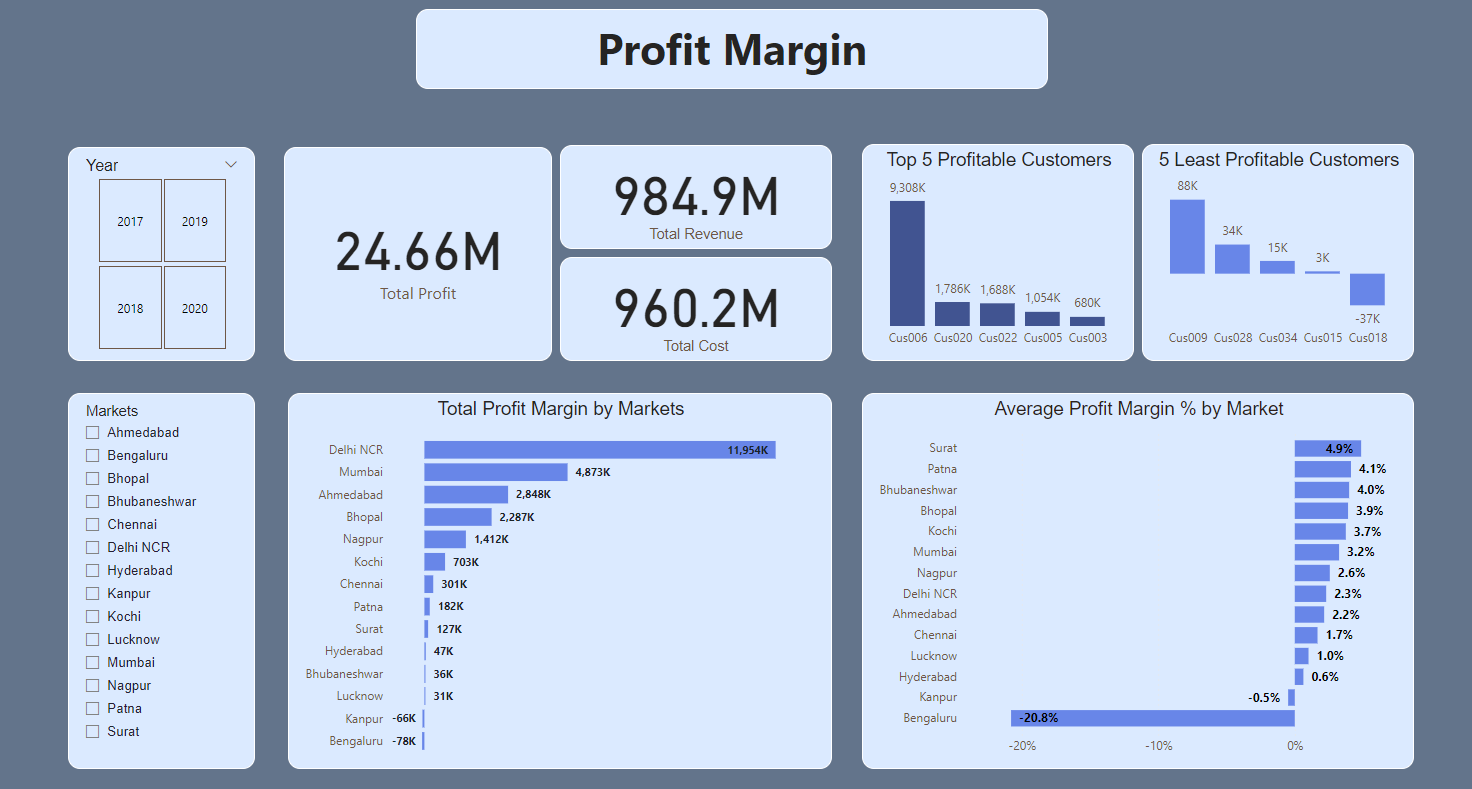

The page's visual inventory and layout, read from the dashboard file:
{"tool":"powerbi","page":{"name":"Profit Analysis","canvas":[1480,800],"ordinal":1},"visuals":[{"type":"card","fields":{"Values":["Sum(sales transactions.profit_margin)"]},"box":[292,154,268,214],"z":0},{"type":"slicer","fields":{"Values":["sales date.year"]},"box":[76,154,187,214],"z":1000},{"type":"slicer","fields":{"Values":["sales markets.markets_name"]},"box":[76,400,187,376],"z":2000},{"type":"barChart","title":"Total Profit Margin by Markets","fields":{"Category":["sales markets.markets_name"],"Y":["Sum(sales transactions.profit_margin)"]},"box":[296,400,544,376],"z":3000},{"type":"clusteredBarChart","title":"Average Profit Margin % by Market","fields":{"Category":["sales markets.markets_name"],"Y":["sales transactions.Profit_margin_per"]},"box":[870,400,552,376],"z":4000},{"type":"card","title":"Total Sales Quantity","fields":{"Values":["Sum(sales transactions.Sales_revenue)"]},"box":[568,152,272,104],"z":5000},{"type":"textbox","box":[424,16,632,80],"z":6000},{"type":"columnChart","title":"Top 5 Profitable Customers","fields":{"Y":["Sum(sales transactions.profit_margin)"],"Category":["sales transactions.customer_code"]},"box":[870,151,272,217],"z":7000},{"type":"card","title":"Total Sales Quantity","fields":{"Values":["Sum(sales transactions.cost_price)"]},"box":[568,264,272,104],"z":8000},{"type":"columnChart","title":"5 Least Profitable Customers","fields":{"Y":["Sum(sales transactions.profit_margin)"],"Category":["sales transactions.customer_code"]},"box":[1150,151,272,217],"z":9000}]}

Visuals, with their boxes in screenshot pixels (x1, y1, x2, y2), scaled from the page's 1480x800 canvas onto the 1472x789 screenshot:
card - Sum(sales transactions.profit_margin): crop(290, 152, 557, 363)
slicer - sales date.year: crop(76, 152, 262, 363)
slicer - sales markets.markets_name: crop(76, 394, 262, 765)
"Total Profit Margin by Markets" barChart: crop(294, 394, 835, 765)
"Average Profit Margin % by Market" clusteredBarChart: crop(865, 394, 1414, 765)
"Total Sales Quantity" card: crop(565, 150, 835, 252)
textbox: crop(422, 16, 1050, 95)
"Top 5 Profitable Customers" columnChart: crop(865, 149, 1136, 363)
"Total Sales Quantity" card: crop(565, 260, 835, 363)
"5 Least Profitable Customers" columnChart: crop(1144, 149, 1414, 363)
